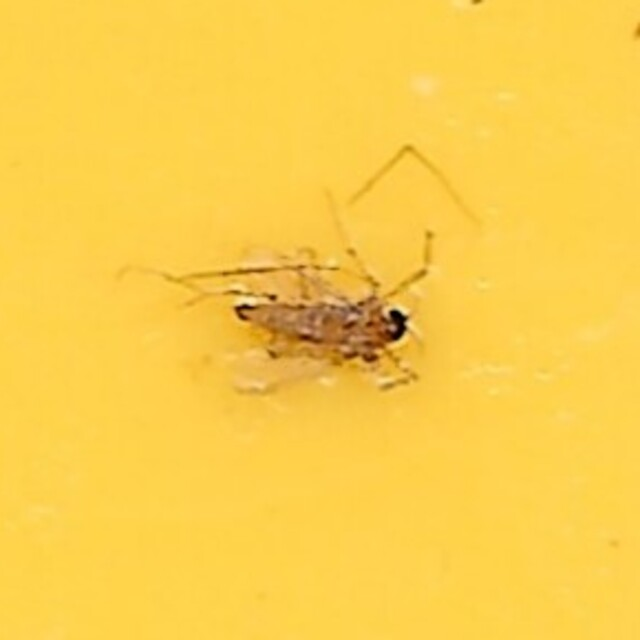Nematocera: (221, 227, 419, 413)
